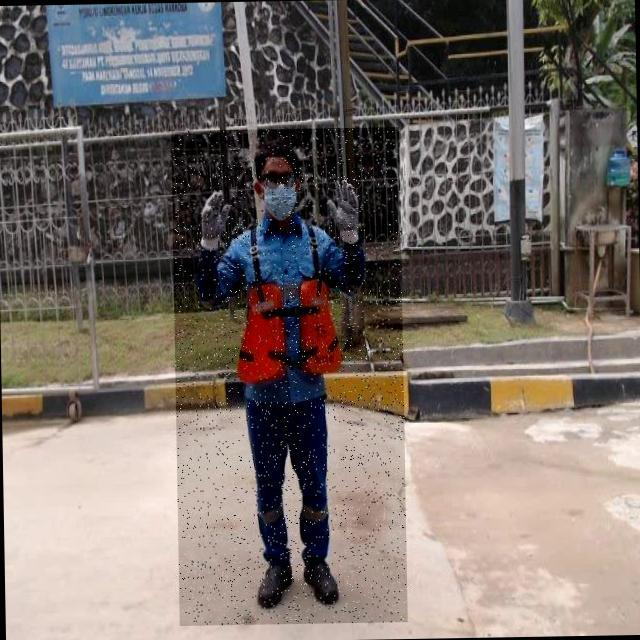Human: (171, 127, 408, 626)
Safety Boot: (300, 553, 341, 608), (256, 556, 294, 611)
Safety Vest: (234, 283, 341, 381)
